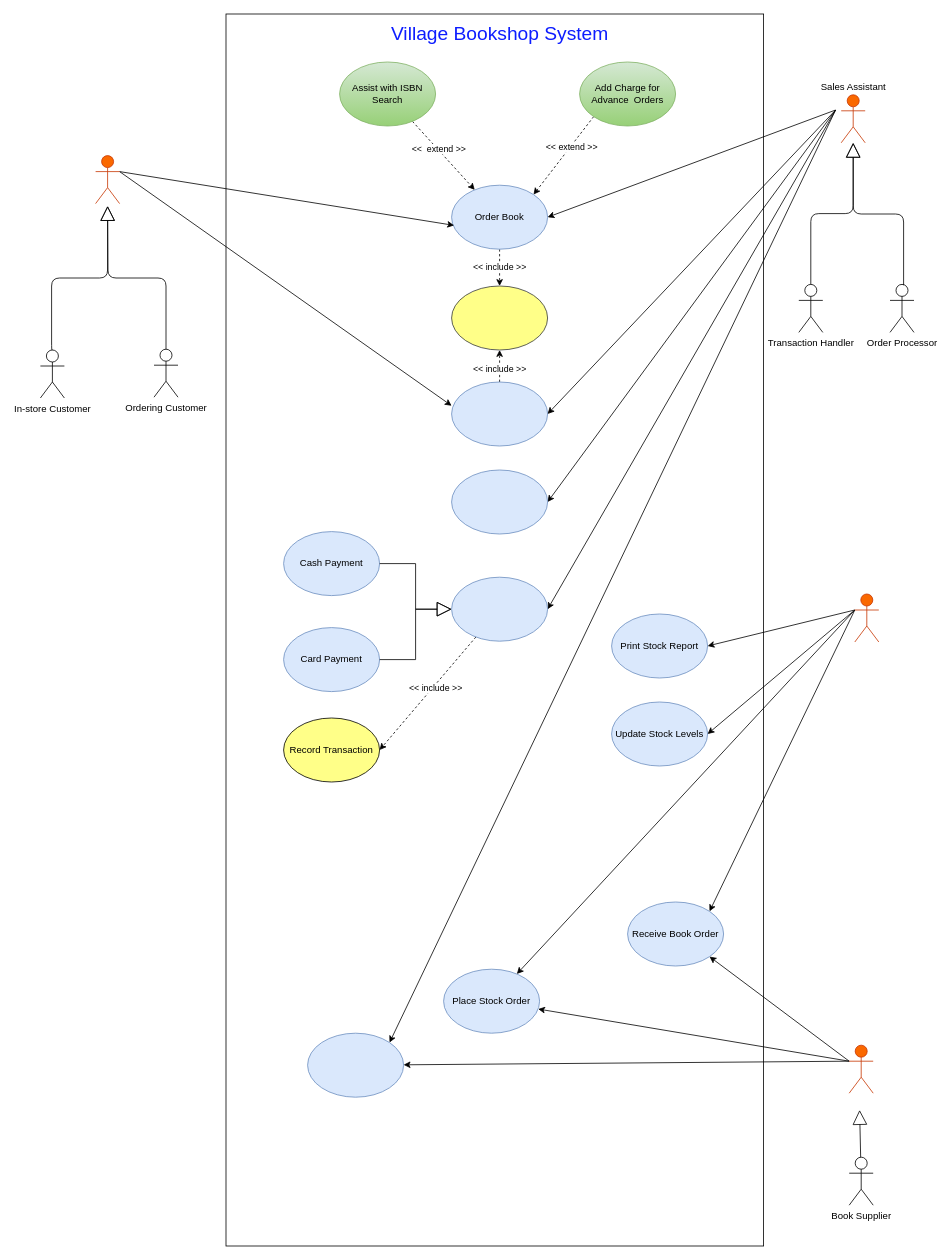
Image size: 950x1260. Some labels were removed from this diagram. The shapes that lost their labels are listed below. From the top down, each one's centre as x and y in pixels, then its label:
(x=107, y=179): Customer
(x=499, y=317): Check Stock Levels
(x=499, y=413): Purchase Book
(x=499, y=501): Contact Customer for Book Collection
(x=499, y=608): Process Payment
(x=866, y=617): Shop Manager
(x=355, y=1064): Send Order to Wholesale
(x=860, y=1068): Wholesale Distribution Company
